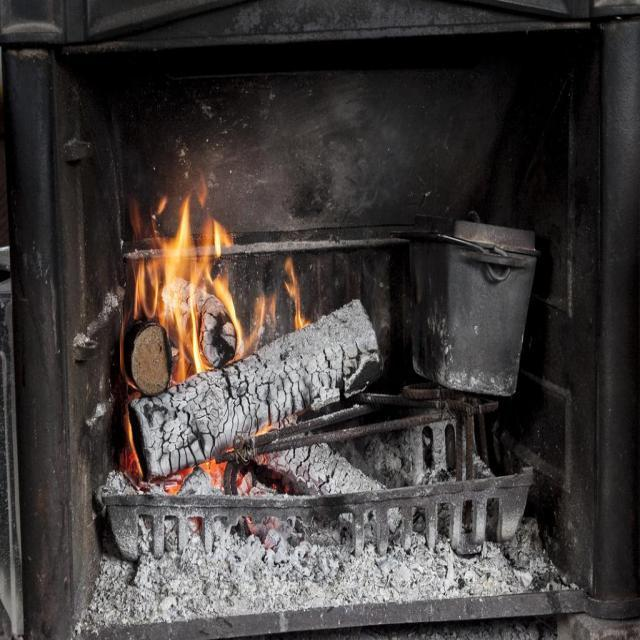fire: (125, 179, 275, 384), (283, 258, 308, 329)
